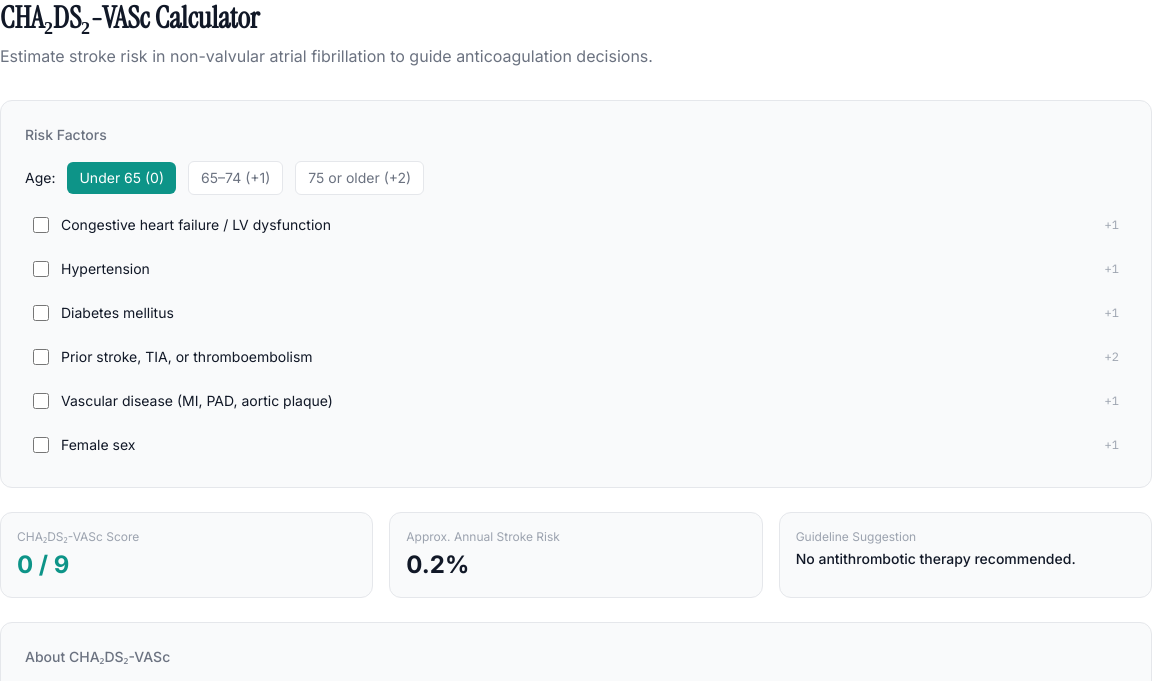
Test case: ChadsVascCalculator › updates the score when factors are selected
The width and height of the screenshot is (1152, 681).
Click the text "Hypertension" at coordinates (105, 268), box [61,260,150,277]
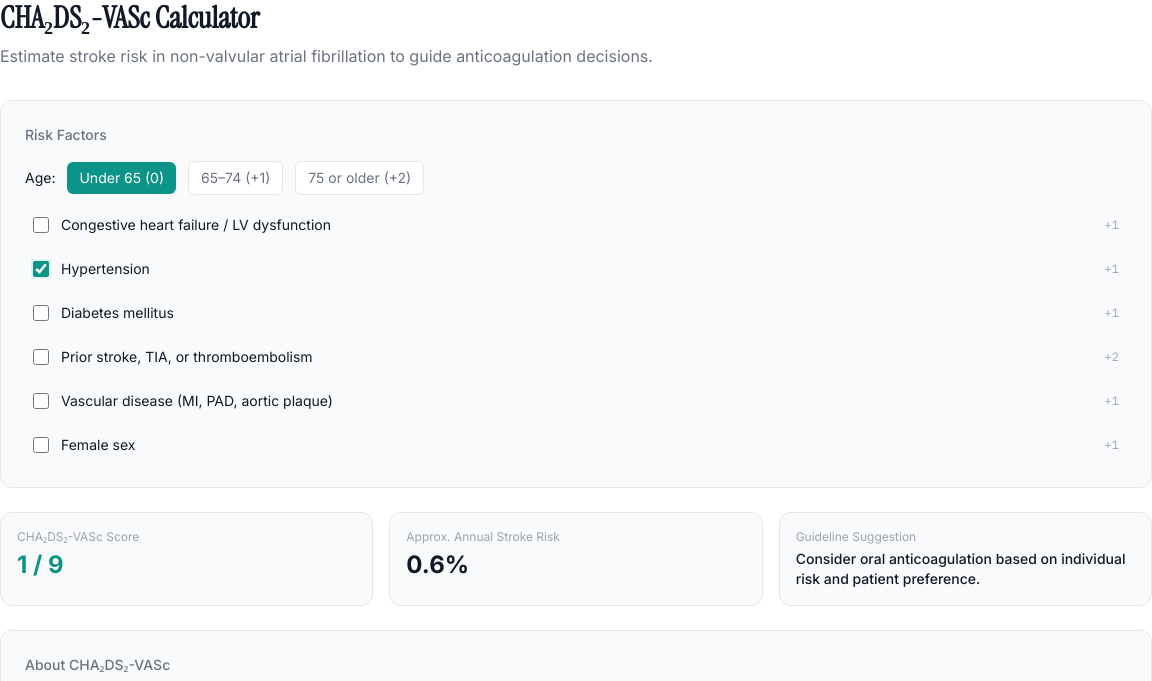
Click the button "75 or older (+2)" at coordinates (360, 178), box [295,161,424,195]
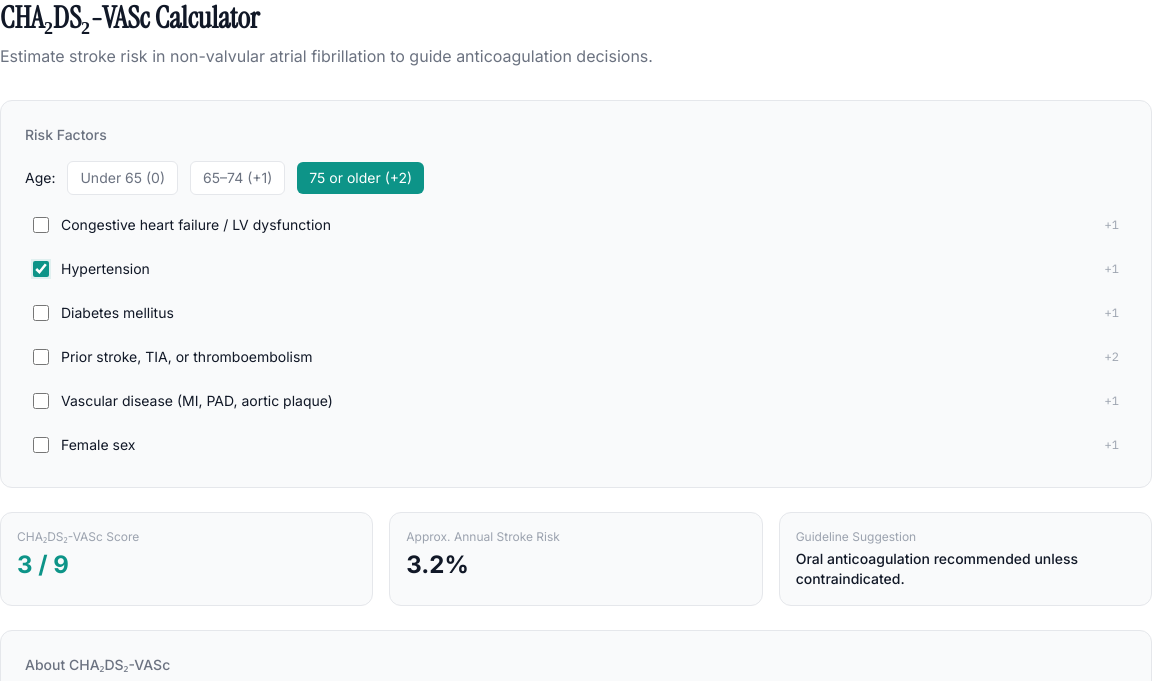
Expected: the text "3 / 9" is shown, [17,550,69,579]
